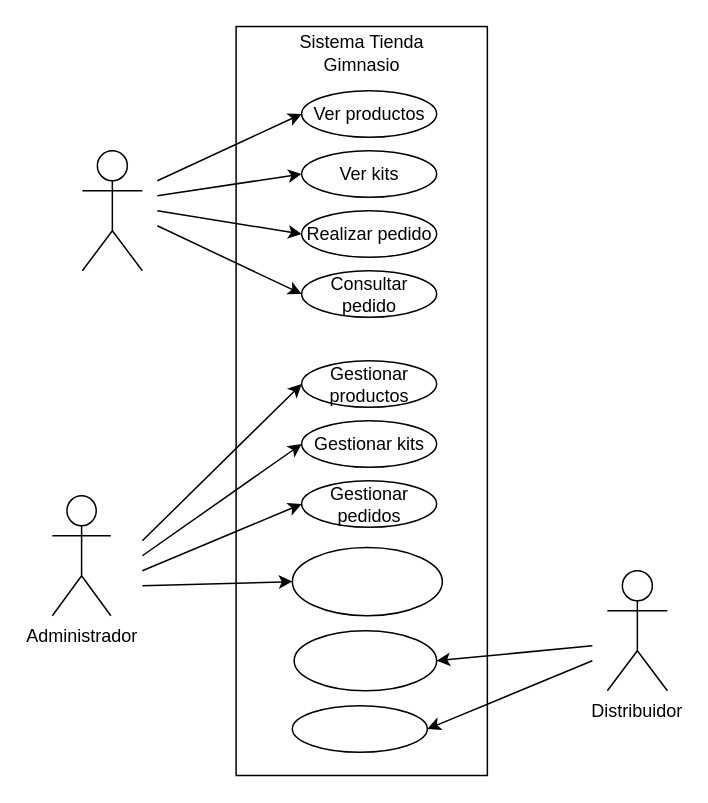
This 708x803 diagram has some shape labels left out. Here are the shapes that lost their labels. From the top down, the centre of each, then its label:
pixel 111 210: Cliente
pixel 366 581: Generar pedido distribuidor
pixel 365 660: Recibir pedido distribuidor
pixel 359 728: Confirmar envio
